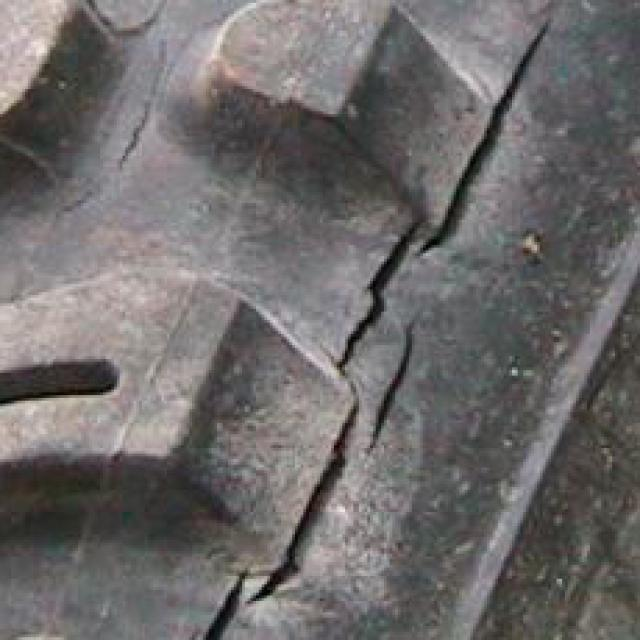Cracks: (175, 0, 566, 640), (44, 0, 169, 261)
